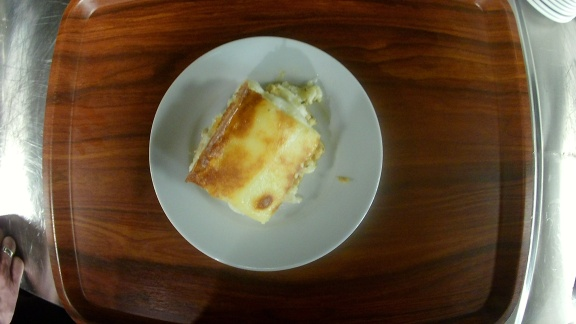firinmakarna: (146, 35, 385, 273)
